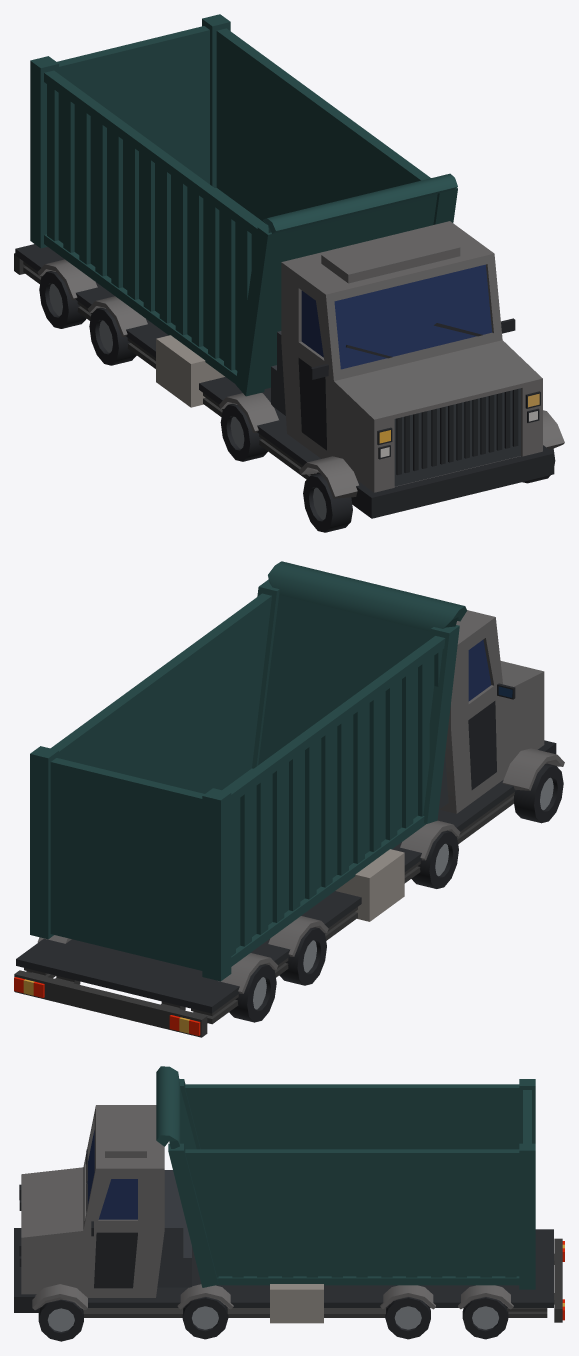
Rendered from DumpTruck_1.fbx.
3 views of the same model, one above another, from view 1: azimuth 30°, elevation 25°; view 2: azimuth 150°, elevation 25°; view 3: azimuth 270°, elevation 25° (orthographic). The views are drawn at different scales.
Parts seen in each view (by area): view 1: DumpTruck_1; view 2: DumpTruck_1; view 3: DumpTruck_1.
Boxes of the visible parts, x1,y1,x2,y2 form: DumpTruck_1: (14,14,564,532); DumpTruck_1: (14,561,564,1037); DumpTruck_1: (14,1066,564,1341).
Size of the model in its own units: 191 by 205 by 517.
